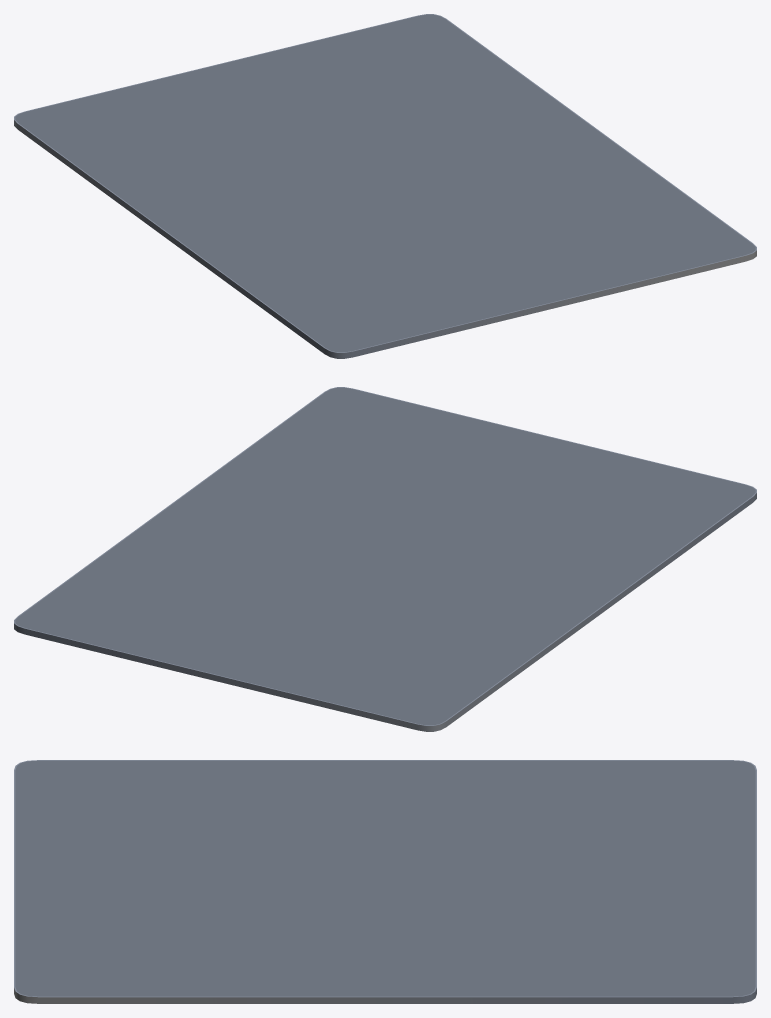
Rendered from Anden_1.FBX.
The picture shows the model from 3 angles, top to bottom: view 1: azimuth 30°, elevation 25°; view 2: azimuth 150°, elevation 25°; view 3: azimuth 270°, elevation 25°; orthographic projection. The views are drawn at different scales.
Visible parts, largest first — view 1: Anden; view 2: Anden; view 3: Anden.
Boxes of the visible parts, x1=… form: Anden: x1=14, y1=14, x2=756, y2=358; Anden: x1=14, y1=387, x2=756, y2=731; Anden: x1=14, y1=760, x2=756, y2=1003.
Size of the model in its own units: 1515 by 2007 by 20.
